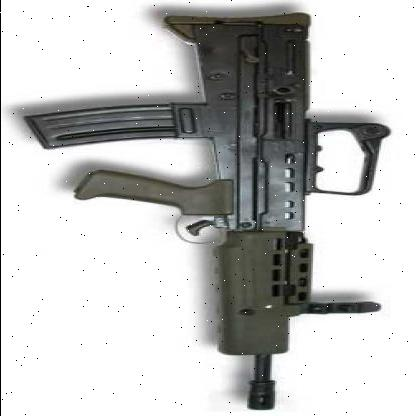rifle: (51, 4, 401, 413)
